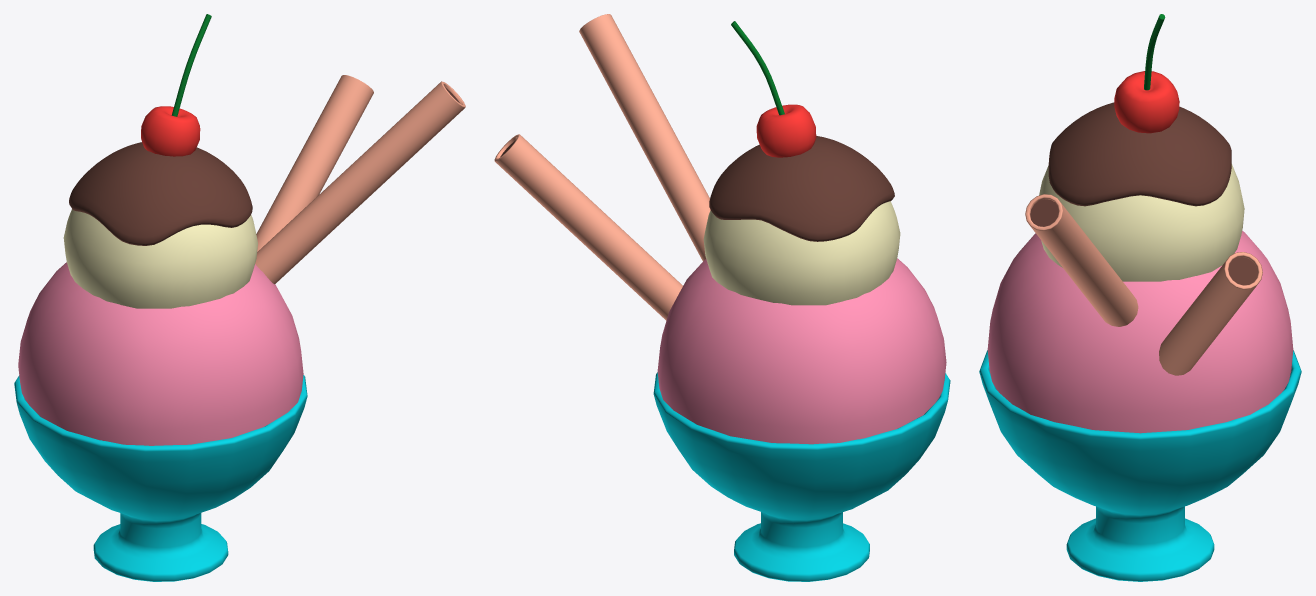
The model's file is Store_4_Ice_Cream_1.glb.
3 renders of one model, left to right at view 1: azimuth 30°, elevation 25°; view 2: azimuth 150°, elevation 25°; view 3: azimuth 270°, elevation 25°, orthographic. The views are drawn at different scales.
Visible parts, largest first — view 1: Store_4_Ice_Cream_1; view 2: Store_4_Ice_Cream_1; view 3: Store_4_Ice_Cream_1.
Part boxes in pixels (x1,y1,x2,y2): Store_4_Ice_Cream_1: (14, 14, 465, 581); Store_4_Ice_Cream_1: (494, 14, 950, 581); Store_4_Ice_Cream_1: (979, 14, 1301, 581).
Bounding box in the file's own units: 0.419 × 0.5369 × 0.2763.
Materials: 1 (1 with a texture image).
